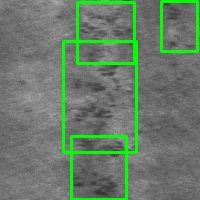rolled-in_scale: (63, 42, 136, 152), (77, 2, 134, 63), (71, 136, 126, 199), (161, 1, 197, 51)
